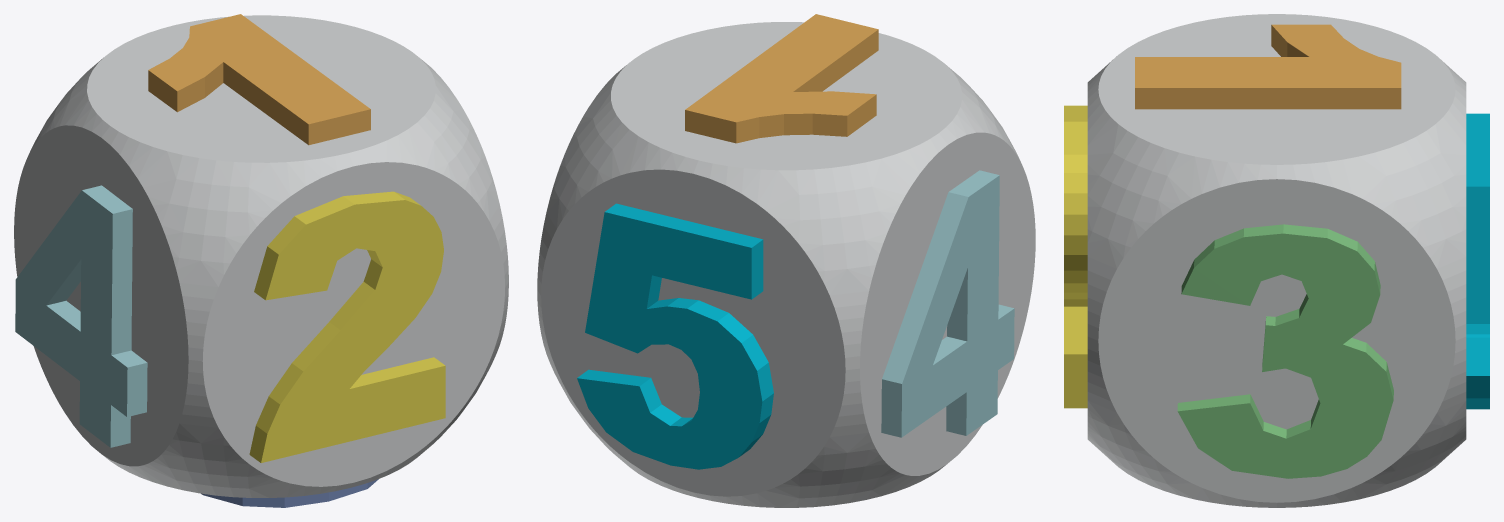
Rendered from jaasonScratch.glb.
3 renders of one model, left to right at view 1: azimuth 30°, elevation 25°; view 2: azimuth 150°, elevation 25°; view 3: azimuth 270°, elevation 25°, orthographic. The views are drawn at different scales.
Visible parts, largest first — view 1: Mesh_Mesh_head_geo.001_lambert2SG.001; view 2: Mesh_Mesh_head_geo.001_lambert2SG.001; view 3: Mesh_Mesh_head_geo.001_lambert2SG.001.
Boxes of the visible parts, box(x1,y1,x2,y2) form: Mesh_Mesh_head_geo.001_lambert2SG.001: box(14, 14, 508, 507); Mesh_Mesh_head_geo.001_lambert2SG.001: box(537, 14, 1035, 507); Mesh_Mesh_head_geo.001_lambert2SG.001: box(1064, 14, 1489, 507).
Size of the model in its own units: 18 by 18 by 18.
